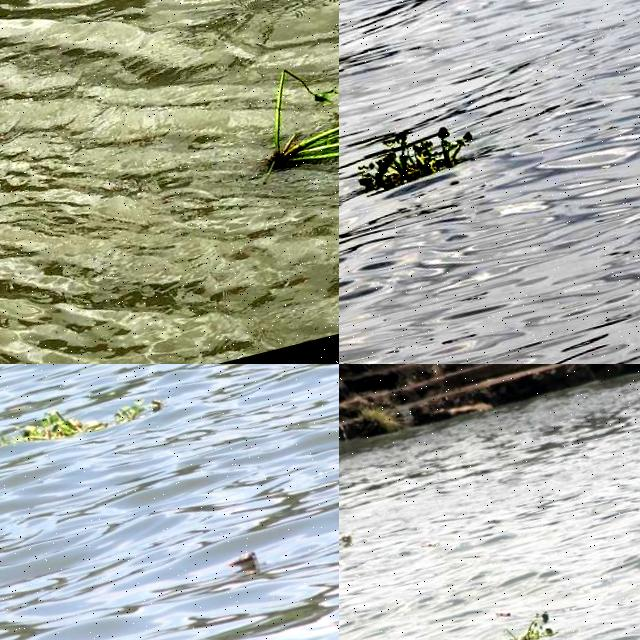water-hyacinth: (244, 33, 340, 187), (1, 379, 154, 467), (349, 110, 473, 198), (495, 609, 557, 640)
